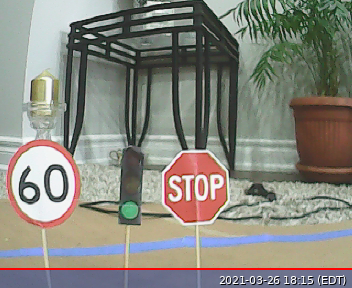Green Traffic Light: (114, 147, 145, 226)
Speed Limit 60: (5, 139, 81, 229)
Stop Sign: (161, 148, 231, 226)
